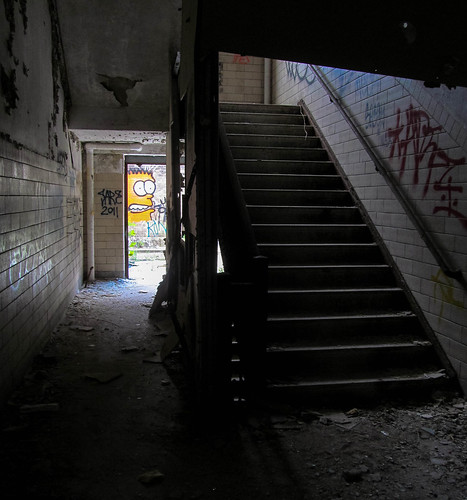graffiti: (358, 87, 467, 234), (127, 166, 164, 251), (95, 185, 125, 219)
